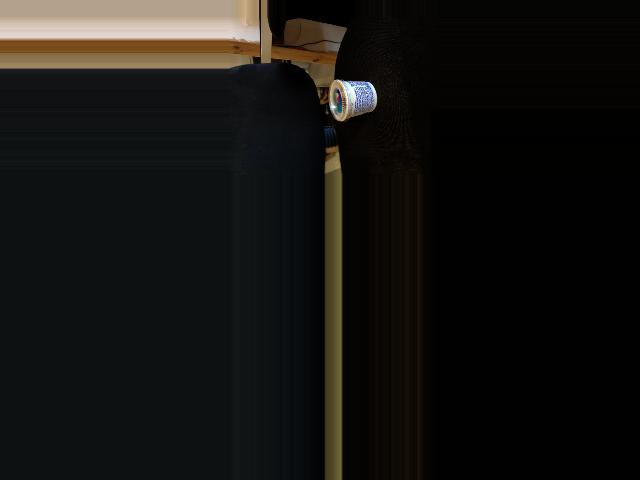cotage: (325, 83, 377, 120)
